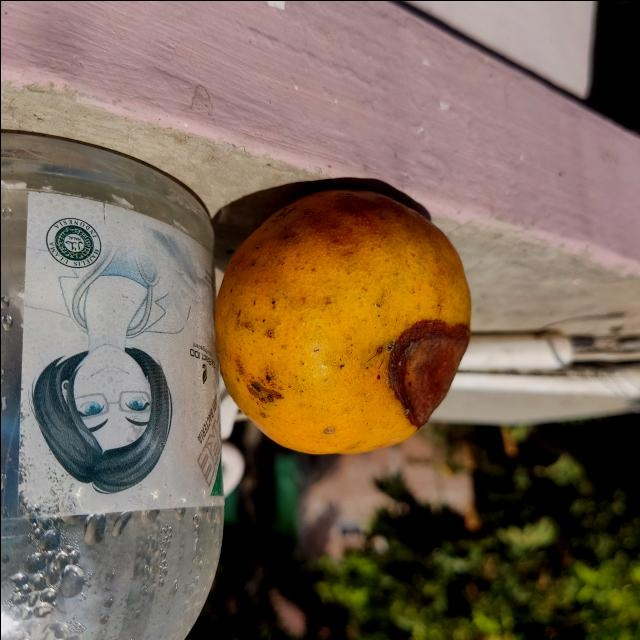agrume: (212, 188, 476, 456)
